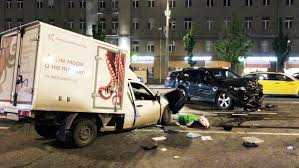car: (13, 24, 178, 145), (173, 64, 278, 125)
